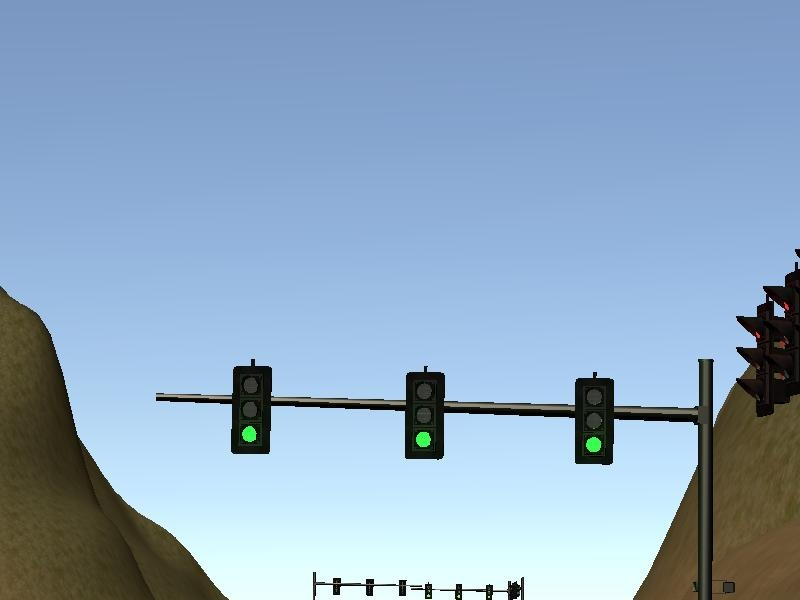green: (403, 367, 447, 463), (572, 373, 615, 468), (230, 364, 272, 454)
